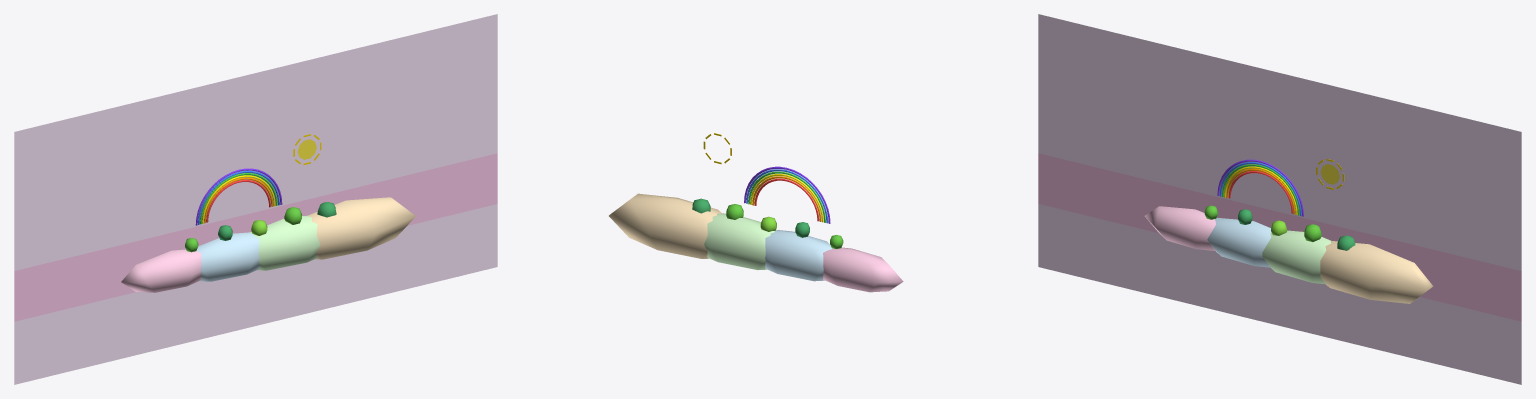
File: cloudCitadel.glb
3 views of the same model, side by side, from view 1: azimuth 30°, elevation 25°; view 2: azimuth 150°, elevation 25°; view 3: azimuth 330°, elevation 25° (orthographic).
Visible parts, largest first — view 1: background, object 2, object 6, object 5, object 3, object 4; view 2: object 6, object 5, object 3, object 4; view 3: background, object 2, object 6, object 5, object 4, object 3.
Boxes of the visible parts, x1,y1,x2,y2 form: background: (14,14,497,384); object 2: (14,153,497,321); object 6: (308,197,415,259); object 5: (249,215,320,270); object 3: (121,249,201,292); object 4: (196,232,259,281); object 6: (609,193,722,258); object 5: (704,213,776,269); object 3: (823,247,903,292); object 4: (765,230,832,281); background: (1038,14,1521,384); object 2: (1038,153,1521,321); object 6: (1320,241,1433,303); object 5: (1262,230,1330,284); object 4: (1207,217,1271,267); object 3: (1144,206,1215,251).
Size of the model in its own units: 4000 by 2000 by 409.
